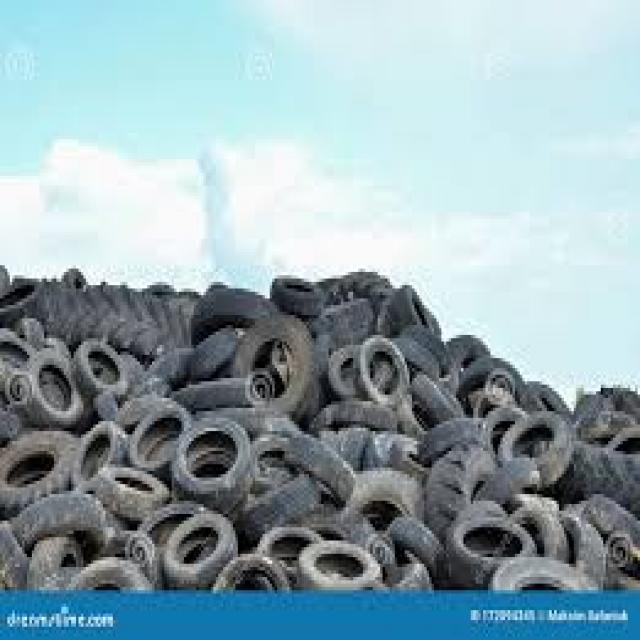Rubber -Non-Biodegradable but Recyclable-: (0, 269, 640, 597)
